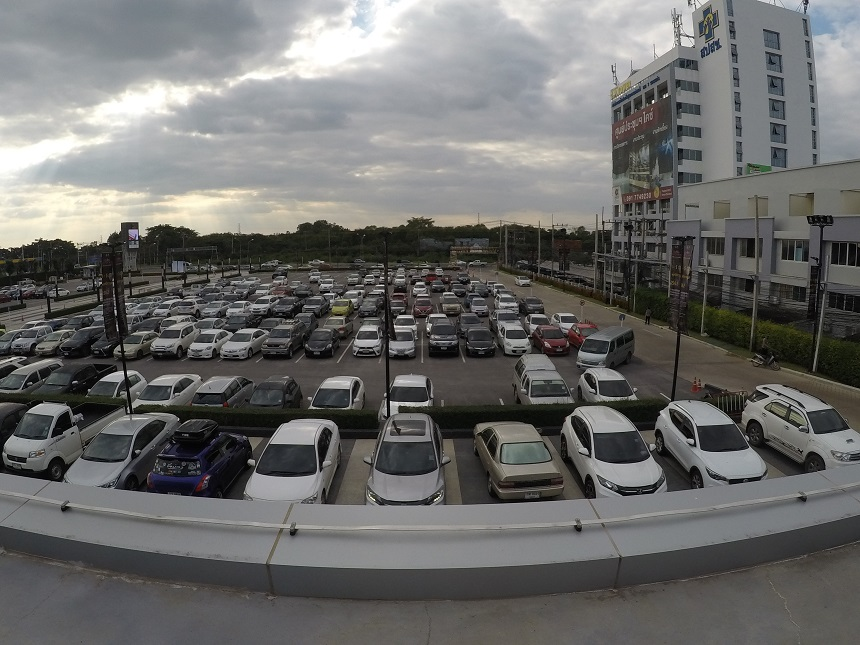busy: (368, 447, 448, 503), (248, 447, 331, 497), (580, 444, 663, 493), (482, 447, 560, 495), (787, 415, 856, 459), (162, 448, 228, 488), (8, 422, 65, 468), (691, 444, 762, 480), (74, 445, 141, 482), (517, 373, 570, 401), (315, 381, 365, 408), (581, 372, 628, 396), (384, 382, 432, 405), (201, 379, 246, 403), (151, 377, 194, 401), (257, 380, 296, 404), (55, 370, 93, 392), (101, 373, 140, 394), (223, 337, 257, 360), (262, 337, 299, 358), (149, 337, 183, 357), (11, 372, 46, 391), (352, 338, 385, 358), (304, 337, 337, 357), (425, 338, 460, 356), (190, 337, 218, 358), (388, 340, 419, 358), (542, 335, 569, 355), (61, 337, 90, 355), (467, 338, 495, 356), (116, 341, 145, 358), (503, 338, 531, 354), (574, 331, 601, 344), (94, 341, 115, 357), (36, 340, 58, 355), (13, 338, 35, 352), (1, 357, 18, 367), (1, 338, 9, 352)
